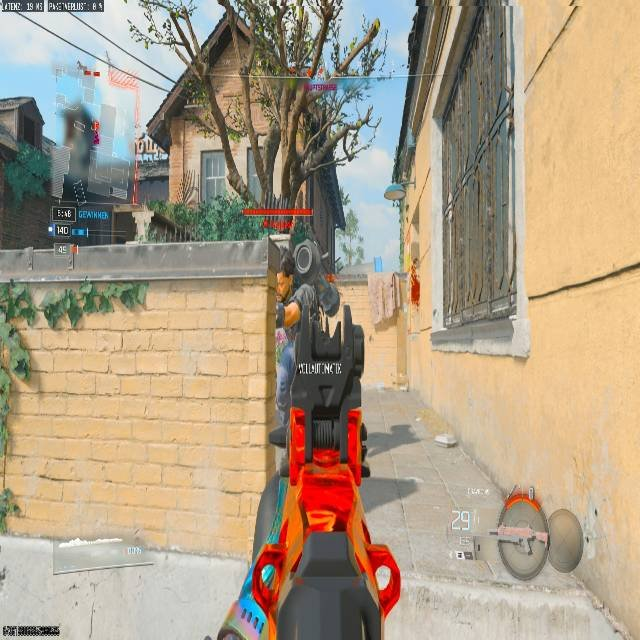head: (290, 238, 324, 285)
player: (275, 228, 350, 440)
